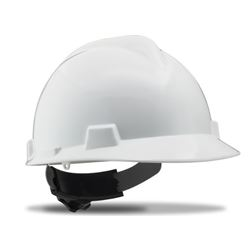casco: (24, 33, 241, 213)
